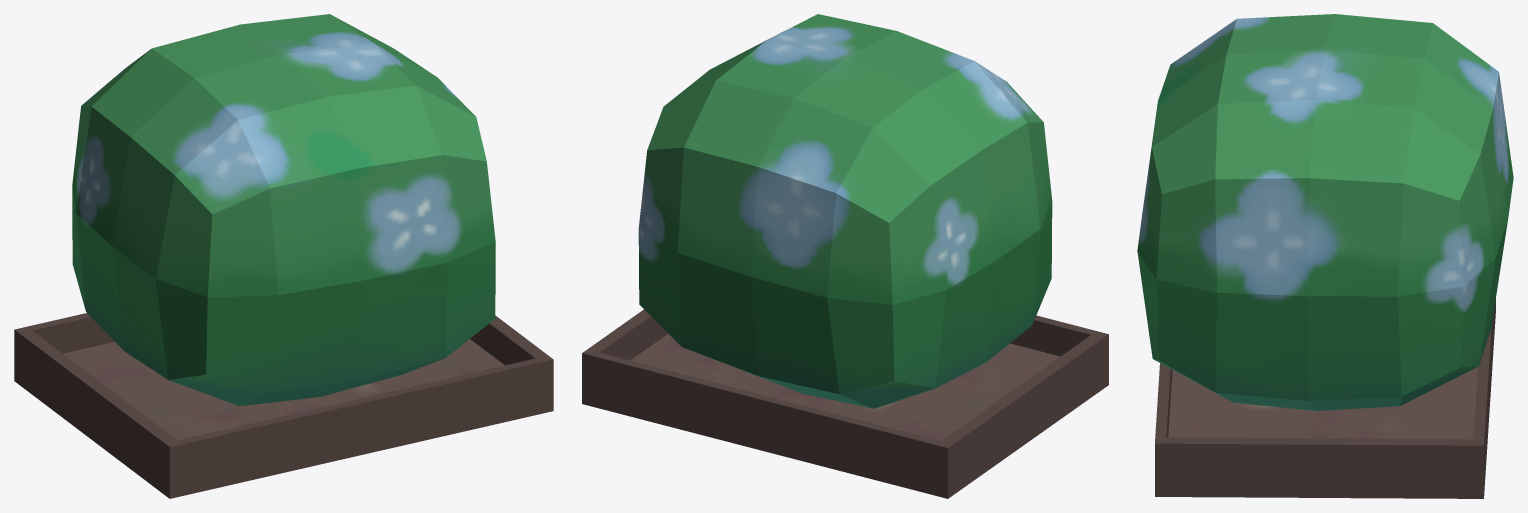
The model's file is hydrangea_bush.glb.
3 views of the same model, side by side, from view 1: azimuth 30°, elevation 25°; view 2: azimuth 150°, elevation 25°; view 3: azimuth 270°, elevation 25° (orthographic). The views are drawn at different scales.
Visible parts, largest first — view 1: Cube.014, Cube.015; view 2: Cube.014, Cube.015; view 3: Cube.014, Cube.015.
Part boxes in pixels (x1,y1,x2,y2): Cube.014: (72, 14, 495, 406); Cube.015: (14, 313, 553, 498); Cube.014: (638, 14, 1052, 408); Cube.015: (582, 309, 1108, 498); Cube.014: (1137, 14, 1513, 410); Cube.015: (1155, 299, 1495, 498).
Bounding box in the file's own units: 2.24 × 1.92 × 1.86.
Materials: 2 (2 with a texture image).
